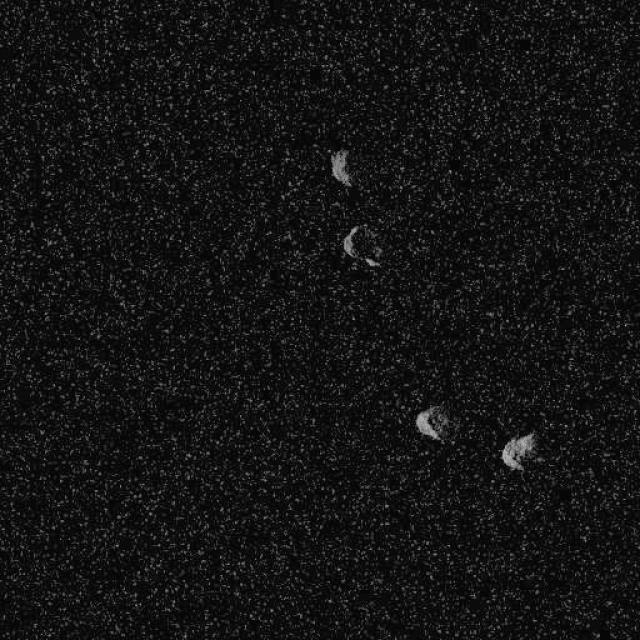D2: (340, 222, 382, 268), (500, 430, 540, 471), (414, 404, 454, 444), (328, 148, 354, 188)
